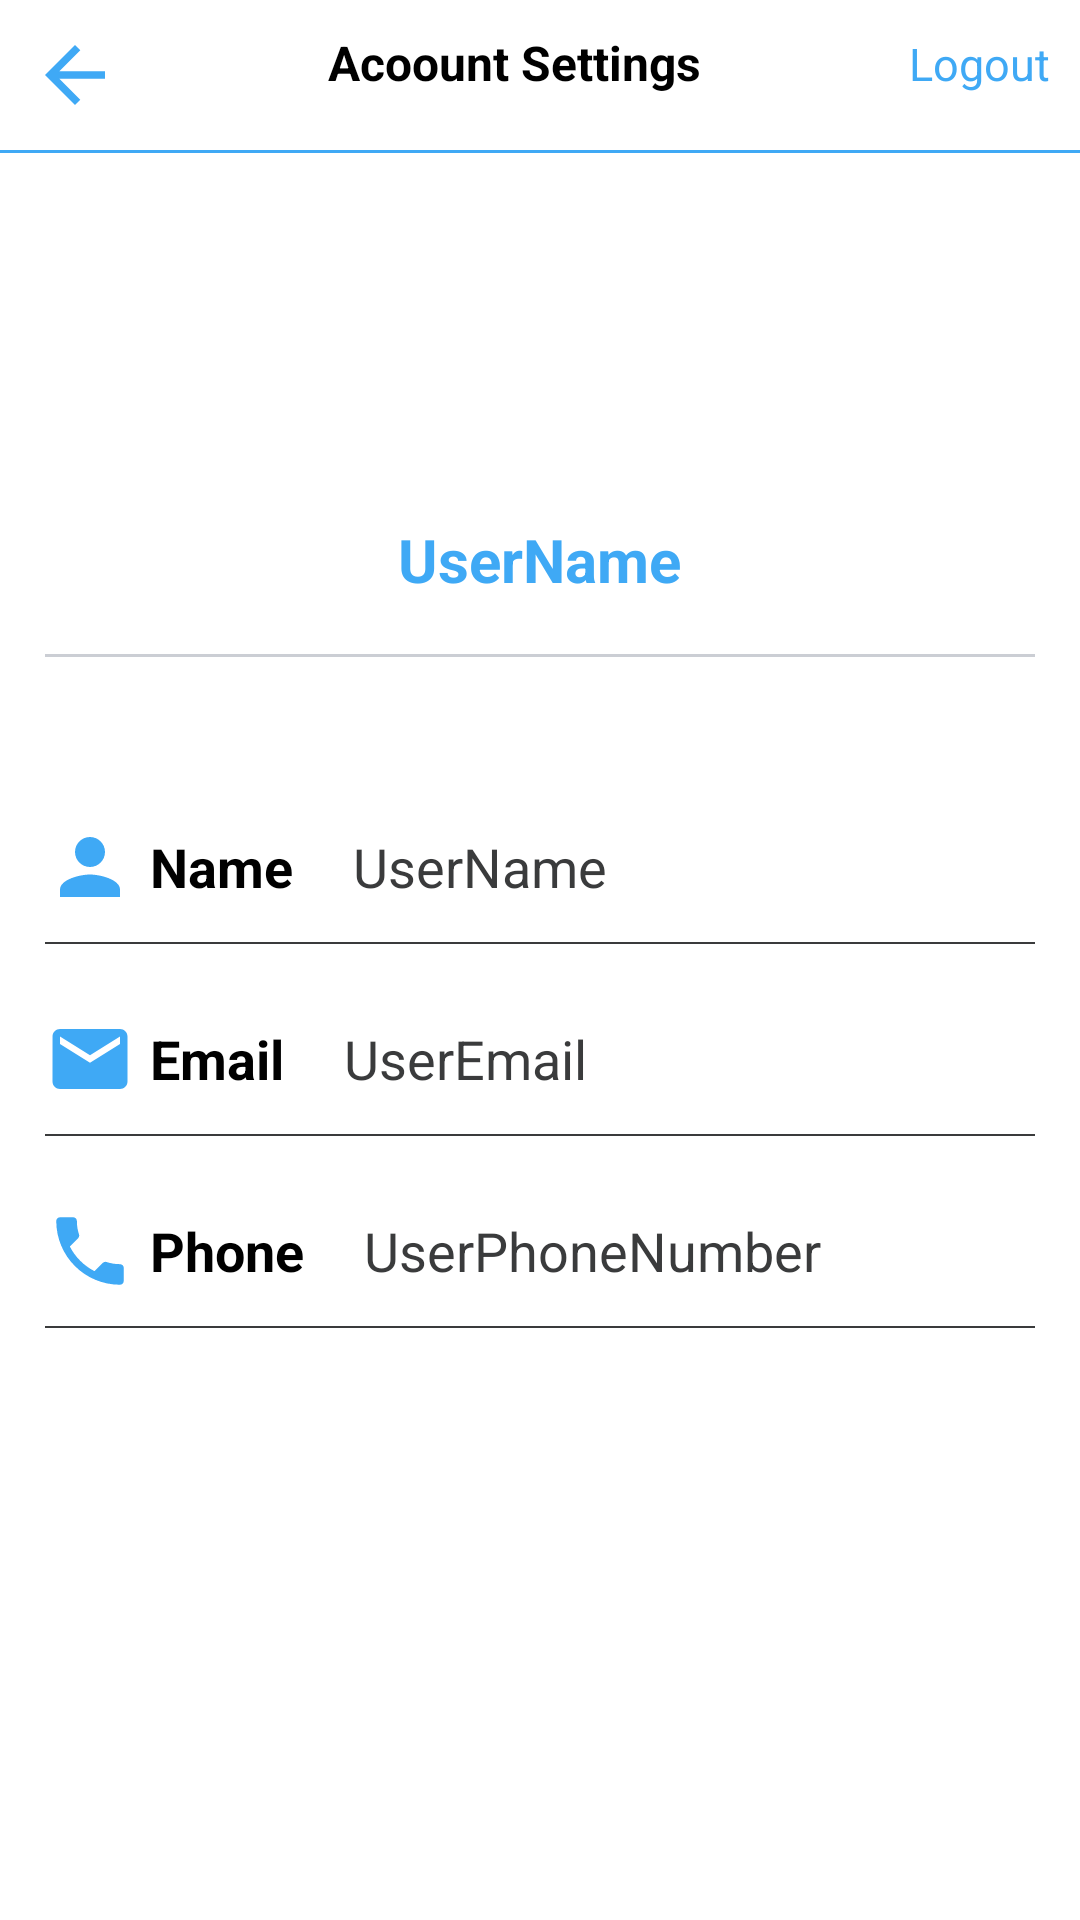

Icon bounding boxes for this 1080 x 1920 phone screenshot, format (x1, y1, x2, y2):
arrow back: (45, 45, 105, 105)
person: (60, 837, 120, 897)
